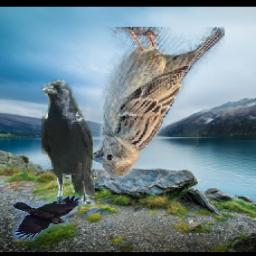Crow: (41, 80, 95, 204), (13, 196, 86, 242)
Sparrow: (88, 27, 225, 178)
